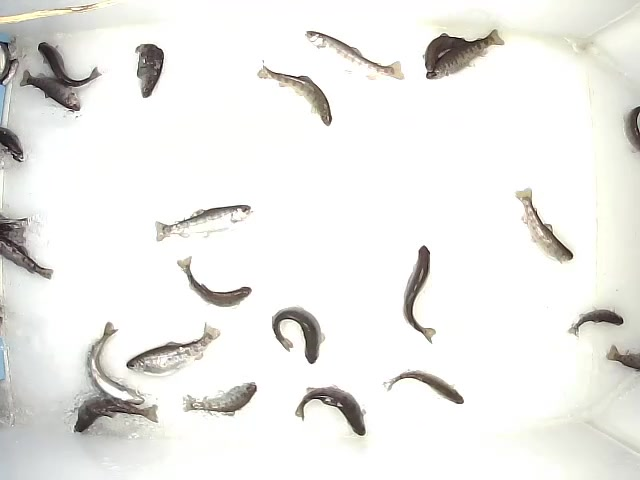fish: (125, 320, 223, 378), (304, 29, 406, 83), (255, 58, 333, 127), (84, 320, 147, 405), (514, 185, 577, 266), (424, 28, 506, 82), (175, 255, 253, 310), (294, 384, 368, 438), (403, 244, 437, 346), (73, 395, 161, 434), (270, 305, 326, 365), (382, 368, 466, 406), (37, 41, 104, 88), (181, 380, 258, 419), (19, 68, 83, 113), (1, 233, 55, 281), (422, 31, 484, 72), (568, 305, 624, 337), (135, 40, 165, 99), (606, 343, 640, 375), (1, 123, 27, 164), (621, 103, 640, 158), (1, 36, 19, 87)
